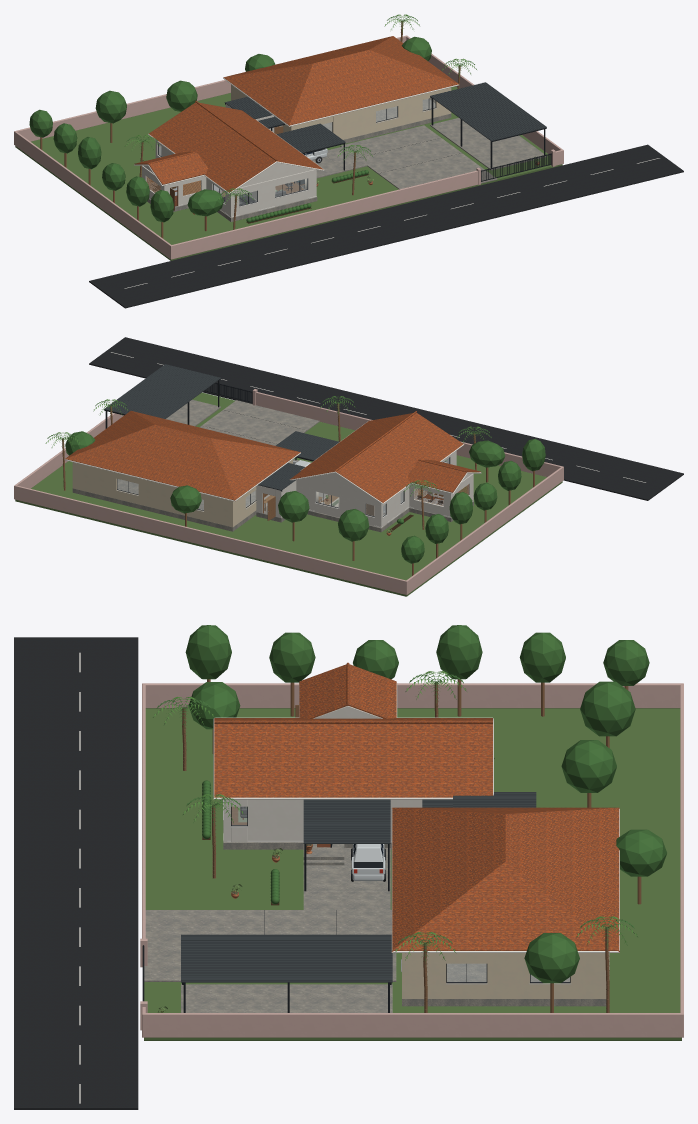
The model's file is house.glb.
The picture shows the model from 3 angles, top to bottom: view 1: azimuth 30°, elevation 25°; view 2: azimuth 150°, elevation 25°; view 3: azimuth 270°, elevation 25°; orthographic projection. The views are drawn at different scales.
Parts seen in each view (by area): view 1: Walk_Site, Walk_ExistingHouse, Walk_Roofs, Walk_Walls, Walk_Floors, Walk_WindowsDoors, Walk_Workshop; view 2: Walk_Site, Walk_ExistingHouse, Walk_Roofs, Walk_Walls, Walk_Workshop, Walk_WindowsDoors, Walk_Floors; view 3: Walk_Site, Walk_ExistingHouse, Walk_Roofs, Walk_Floors, Walk_Walls, Walk_Workshop.
Part boxes in pixels (x1,y1,x2,y2): Walk_Site: (14, 14, 683, 308); Walk_ExistingHouse: (223, 36, 459, 143); Walk_Roofs: (134, 101, 345, 193); Walk_Walls: (142, 140, 316, 217); Walk_Floors: (147, 157, 345, 221); Walk_WindowsDoors: (146, 144, 308, 210); Walk_Workshop: (224, 96, 274, 132); Walk_Site: (14, 337, 683, 596); Walk_ExistingHouse: (65, 411, 300, 531); Walk_Roofs: (275, 411, 481, 503); Walk_Walls: (296, 451, 473, 527); Walk_Workshop: (256, 467, 300, 522); Walk_WindowsDoors: (315, 457, 469, 517); Walk_Floors: (294, 460, 473, 532); Walk_Site: (14, 625, 683, 1109); Walk_ExistingHouse: (391, 807, 619, 1006); Walk_Roofs: (213, 662, 493, 845); Walk_Floors: (223, 806, 391, 891); Walk_Walls: (223, 799, 422, 841); Walk_Workshop: (453, 792, 536, 807).
Size of the model in its own units: 60 by 6.25 by 36.1.
Materials: 55 (30 with a texture image).
